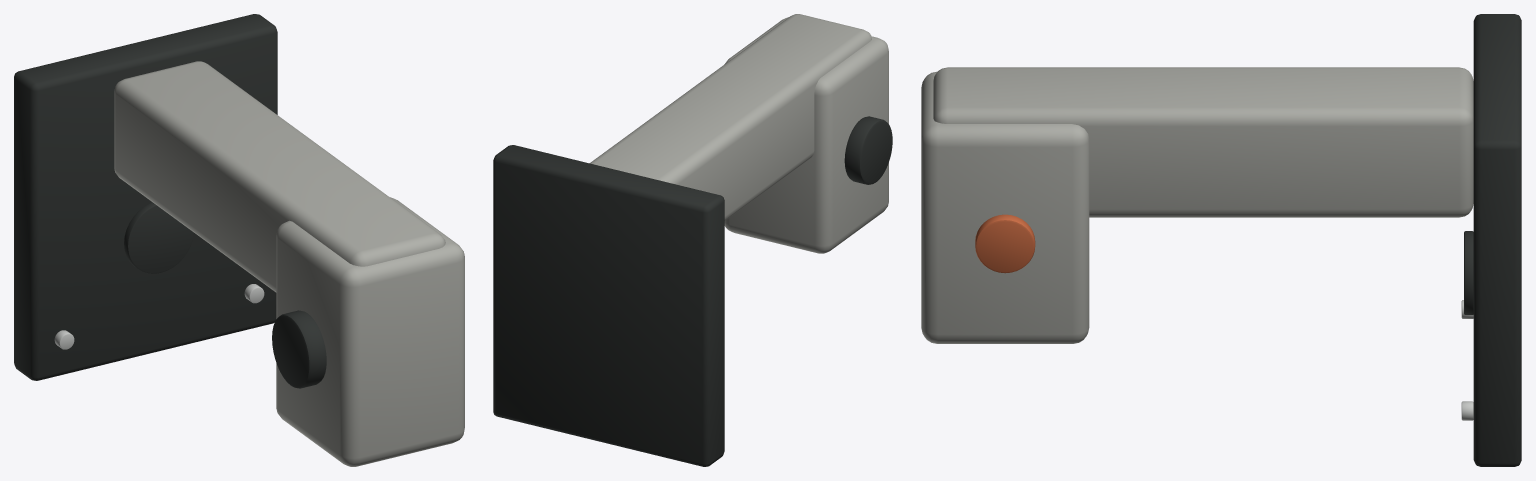
The model's file is arbor_press_body.glb.
3 views of the same model, side by side, from view 1: azimuth 30°, elevation 25°; view 2: azimuth 150°, elevation 25°; view 3: azimuth 270°, elevation 25° (orthographic). The views are drawn at different scales.
Visible parts, largest first — view 1: arbor_press_body; view 2: arbor_press_body; view 3: arbor_press_body.
Boxes of the visible parts, <box> form: arbor_press_body: <box>14,14,464,466</box>; arbor_press_body: <box>493,14,892,466</box>; arbor_press_body: <box>921,14,1521,466</box>.
Bounding box in the file's own units: 0.26 × 0.3 × 0.5.
